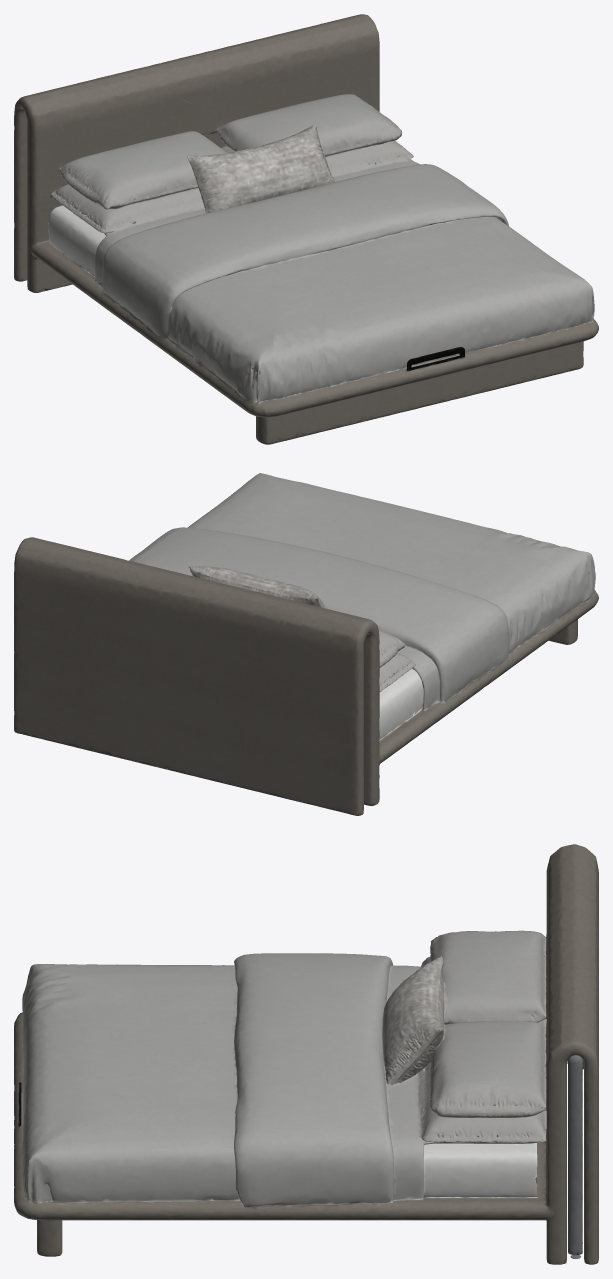
The model's file is modern_upholstered_bed_frame_xkmkdf.glb.
The picture shows the model from 3 angles, top to bottom: view 1: azimuth 30°, elevation 25°; view 2: azimuth 150°, elevation 25°; view 3: azimuth 270°, elevation 25°; orthographic projection. The views are drawn at different scales.
Visible parts, largest first — view 1: world; view 2: world; view 3: world.
Boxes of the visible parts, x1,y1,x2,y2 form: world: (14, 14, 598, 444); world: (14, 473, 598, 815); world: (14, 844, 598, 1264).
Size of the model in its own units: 0.8173 by 0.42 by 0.9993.
Materials: 1 (1 with a texture image).
